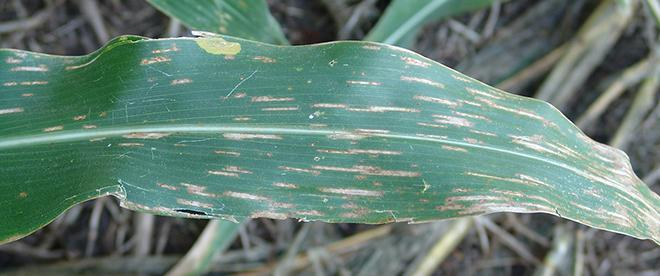Gray_Leaf_Spot: (393, 62, 616, 158), (434, 167, 660, 244), (150, 158, 337, 250), (320, 130, 432, 231), (233, 92, 409, 127), (191, 26, 290, 66), (0, 37, 54, 92), (211, 126, 287, 165), (138, 41, 199, 88), (44, 109, 126, 141), (93, 182, 158, 218), (354, 43, 437, 67), (109, 131, 193, 154), (339, 73, 394, 92), (0, 103, 38, 124), (65, 51, 106, 69), (9, 188, 42, 205)
